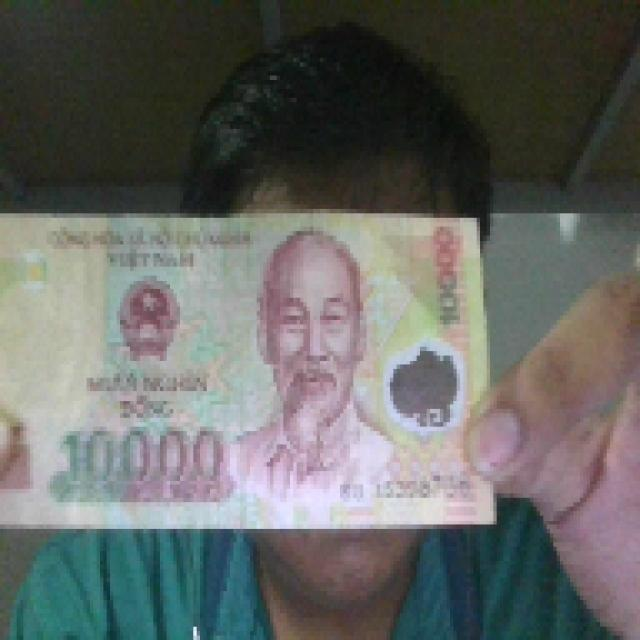10 000 VND: (0, 204, 500, 534)
